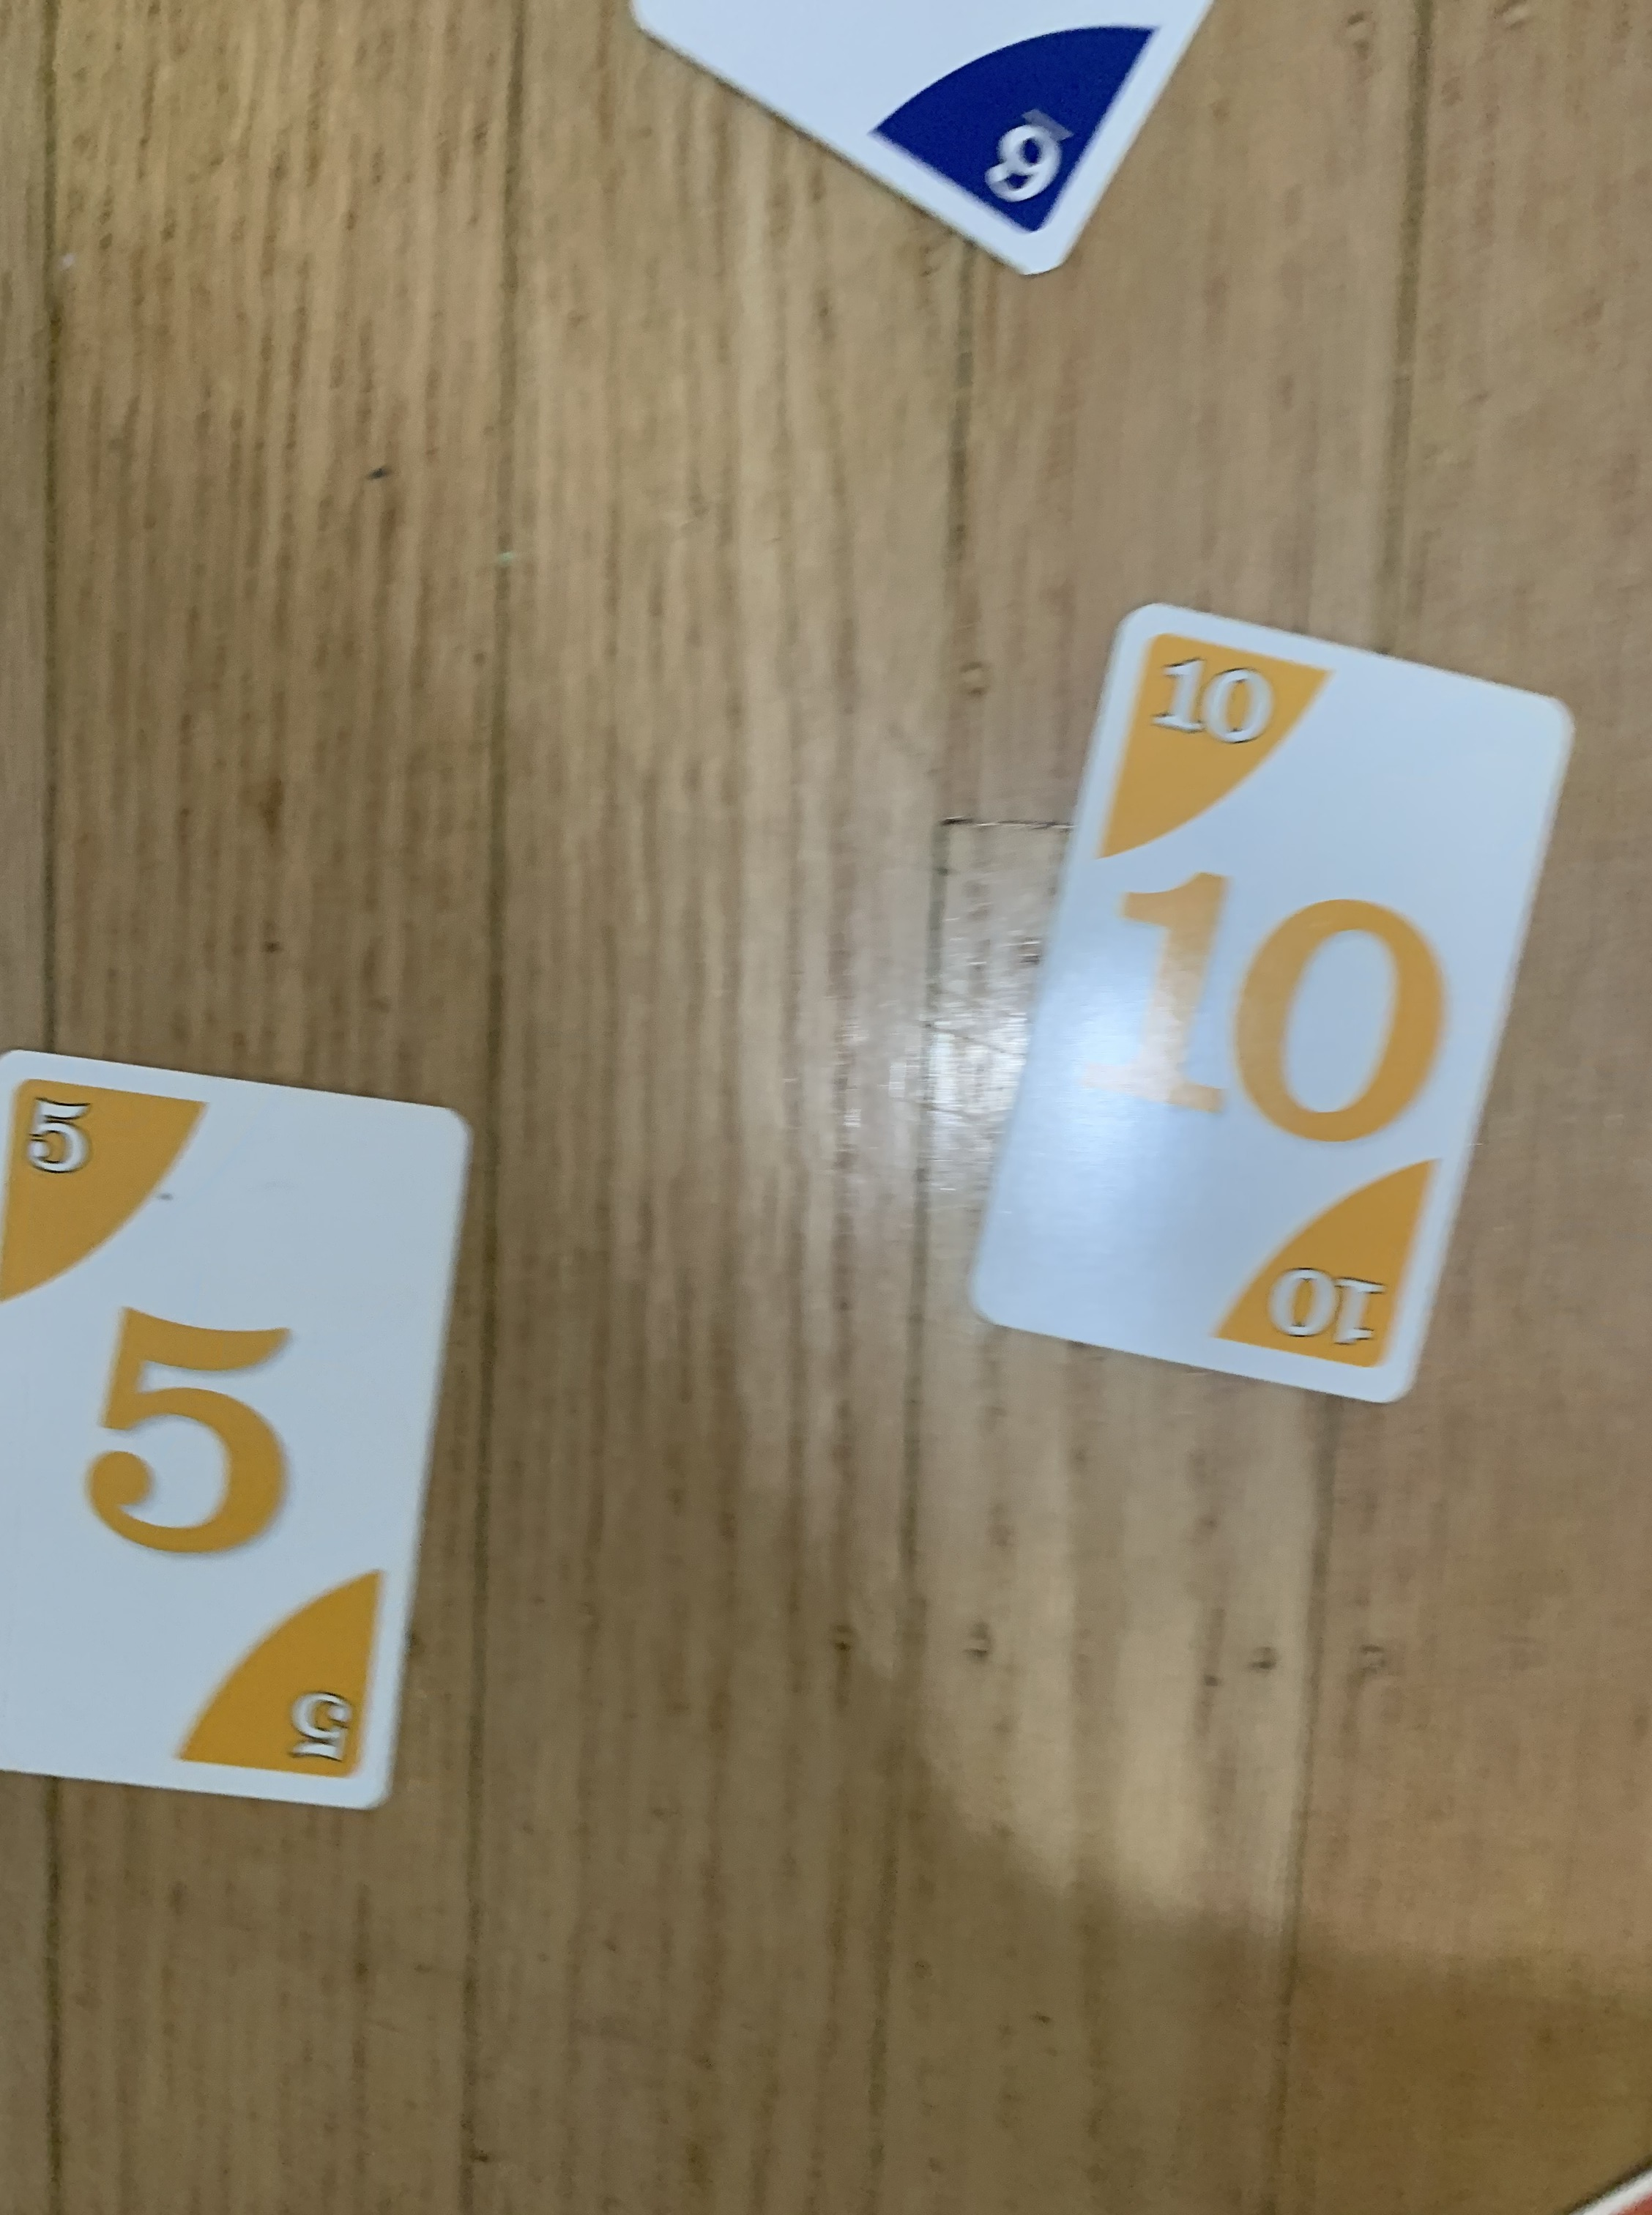five: (0, 1040, 479, 1816)
ten: (965, 601, 1581, 1411)
